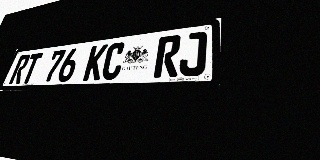6: (56, 48, 81, 82)
7: (42, 50, 66, 83)
C: (100, 42, 127, 80)
J: (178, 31, 207, 77)
K: (82, 44, 108, 81)
R: (153, 34, 182, 78), (8, 54, 31, 84)
T: (20, 53, 43, 84)
